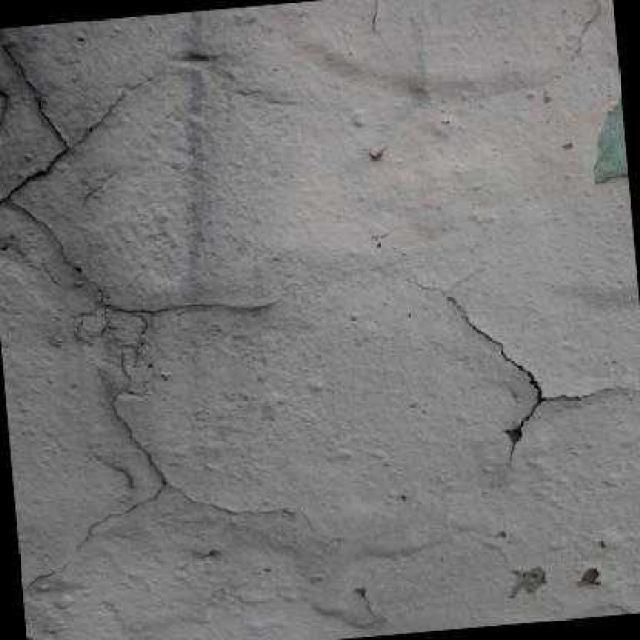D00: (28, 397, 287, 586), (0, 43, 161, 204), (459, 309, 607, 451)
